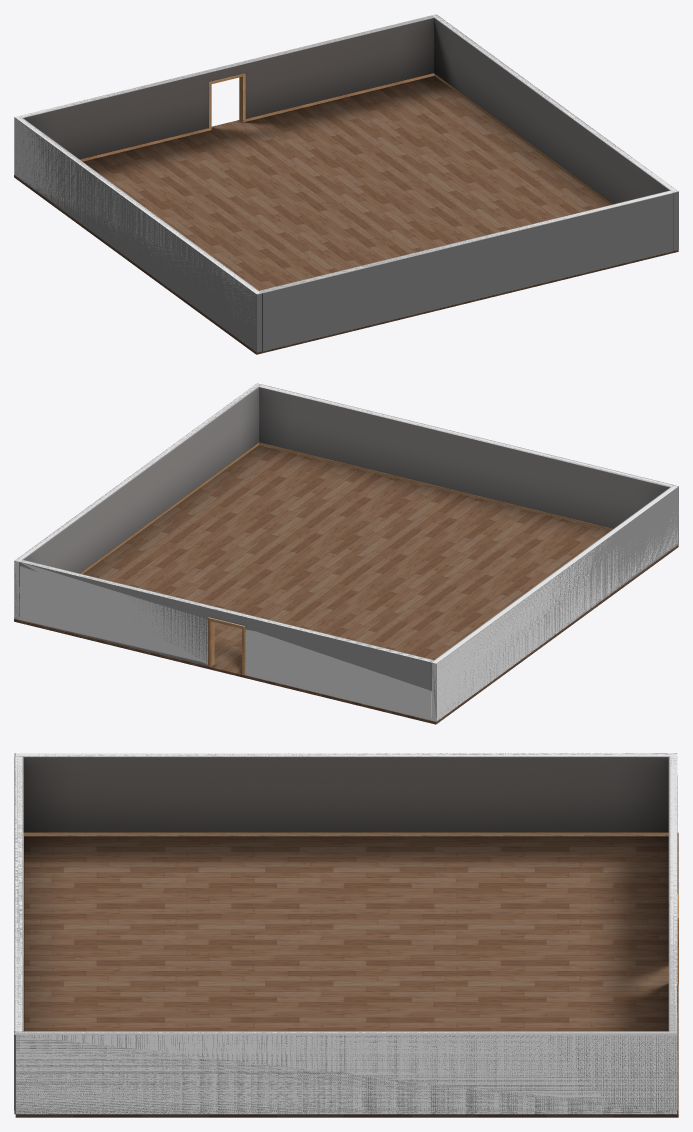
File: room-shell.glb
3 renders of one model, top to bottom at view 1: azimuth 30°, elevation 25°; view 2: azimuth 150°, elevation 25°; view 3: azimuth 270°, elevation 25°, orthographic. The views are drawn at different scales.
Visible parts, largest first — view 1: floor, Wall door.003, Wall door, Wall door.002, Wall door.001, Wall door Highpoly; view 2: floor, Wall door Highpoly, Wall door.003, Wall door.001, Wall door.002, Wall door; view 3: floor, Wall door Highpoly, Wall door.002, Wall door.001, Wall door.003, Wall door.
Boxes of the visible parts, <box> form: floor: <box>14,76,678,354</box>; Wall door.003: <box>259,190,673,351</box>; Wall door: <box>20,15,434,159</box>; Wall door.002: <box>14,116,262,352</box>; Wall door.001: <box>431,14,678,250</box>; Wall door Highpoly: <box>14,14,677,339</box>; floor: <box>14,445,678,724</box>; Wall door Highpoly: <box>14,383,677,721</box>; Wall door.003: <box>259,384,672,528</box>; Wall door.001: <box>14,383,261,619</box>; Wall door.002: <box>431,485,678,721</box>; Wall door: <box>20,560,433,690</box>; floor: <box>15,832,678,1117</box>; Wall door Highpoly: <box>15,753,678,1114</box>; Wall door.002: <box>14,753,677,832</box>; Wall door.001: <box>14,1031,677,1114</box>; Wall door.003: <box>14,757,23,1110</box>; Wall door: <box>668,757,677,1031</box>.
Size of what is drawn, in the model's own units: 30.54 by 4.19 by 30.47.
Materials: 4 (3 with a texture image).
